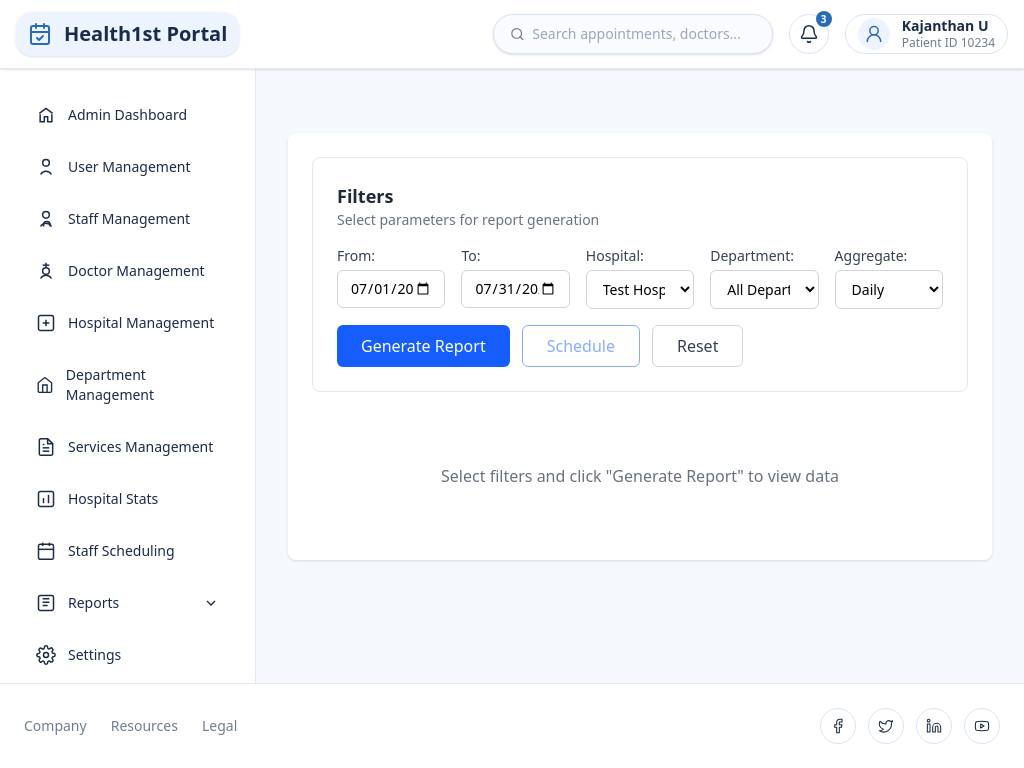
Scenario: Reports page › opens schedule modal and creates schedule from suggestions
Click the button "Generate Report".
click(423, 346)  # box [337,325,510,367]
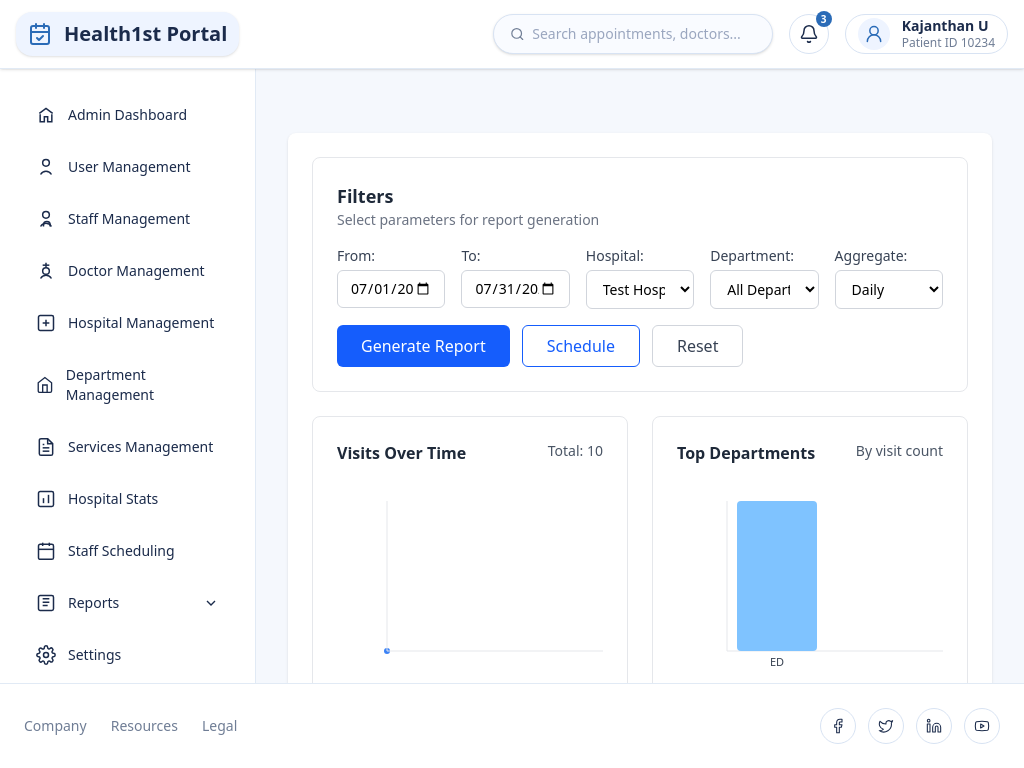
// Click Schedule to open modal and trigger suggestions fetch
Click the button "Schedule".
click(581, 346)  # box [522,325,640,367]
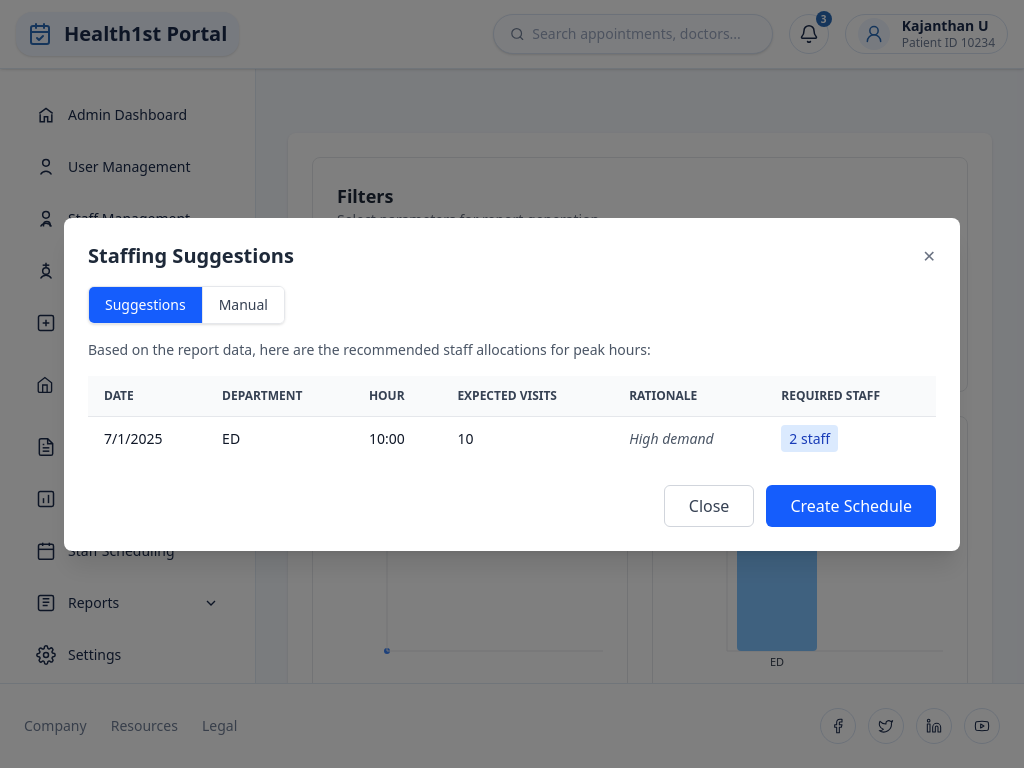
Expected: the heading "Staffing Suggestions" is shown, [88,242,294,270]
// Click Create Schedule
Click the button "Create Schedule".
click(851, 506)  # box [766,484,936,526]
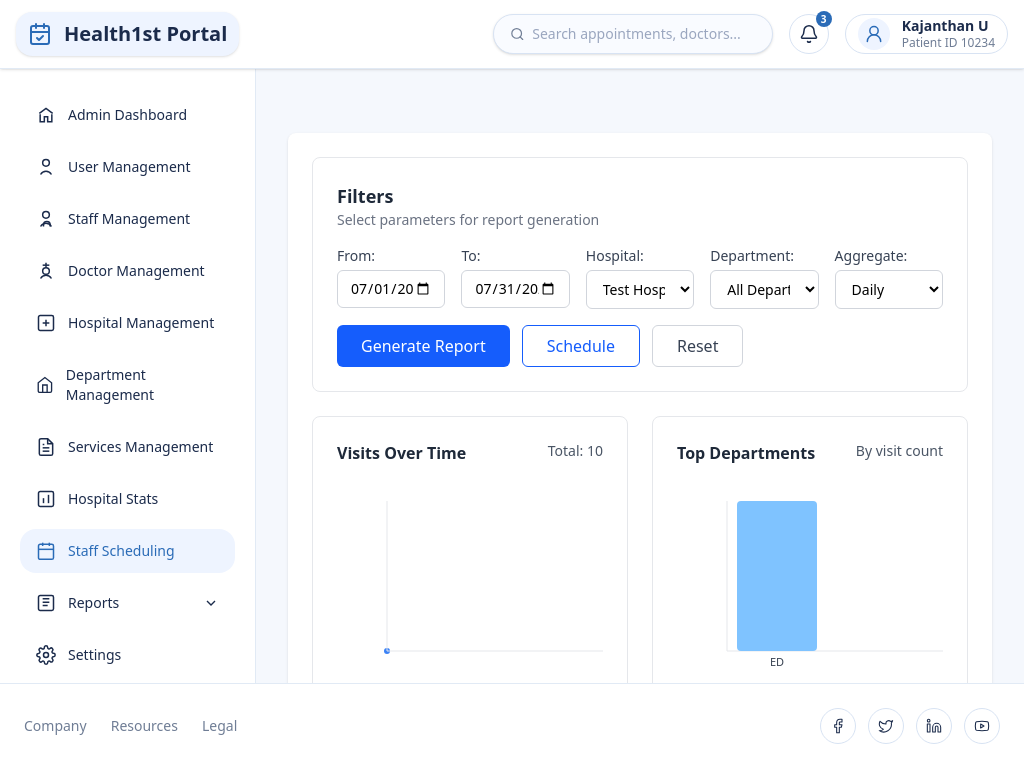
Expected: the heading "Staffing Suggestions" is gone
